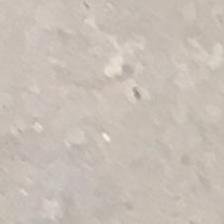Non_Crack: (26, 26, 204, 186)
